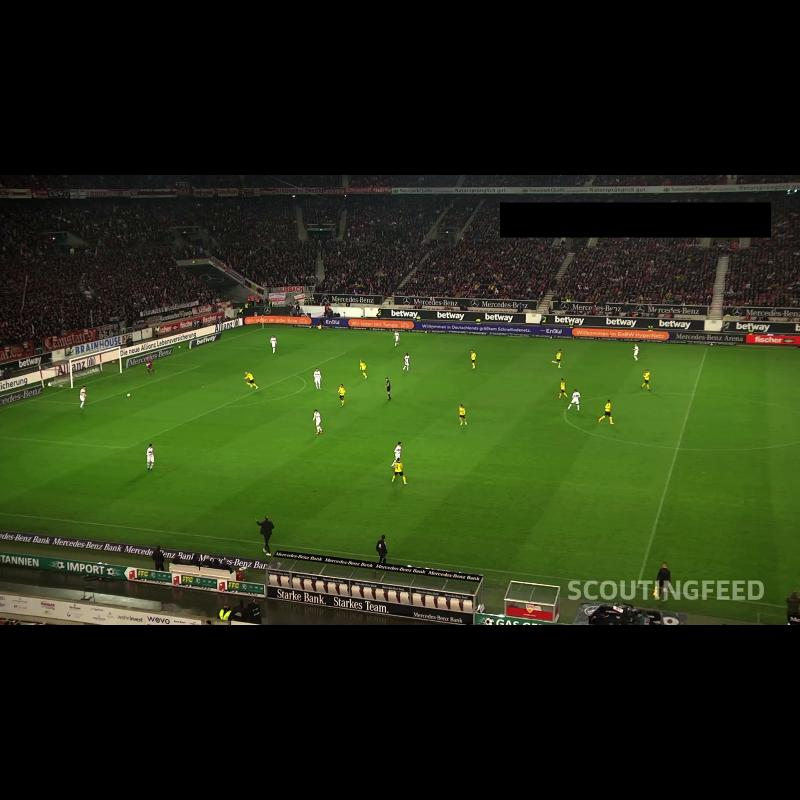cross_recipient_zone: (0, 346, 346, 448)
crossing_player_zone: (0, 437, 245, 528), (209, 328, 457, 356)
pitch: (0, 328, 800, 610)
